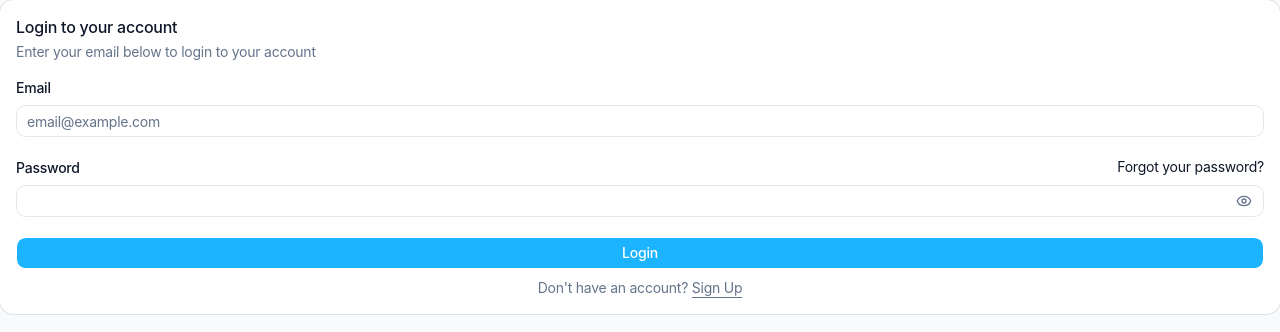
Scenario: LoginForm › disables the submit button while the request is in flight
The image size is (1280, 332).
In the field labelled "Email": (640,121) [16, 105, 1264, 137], type "user@email.com"
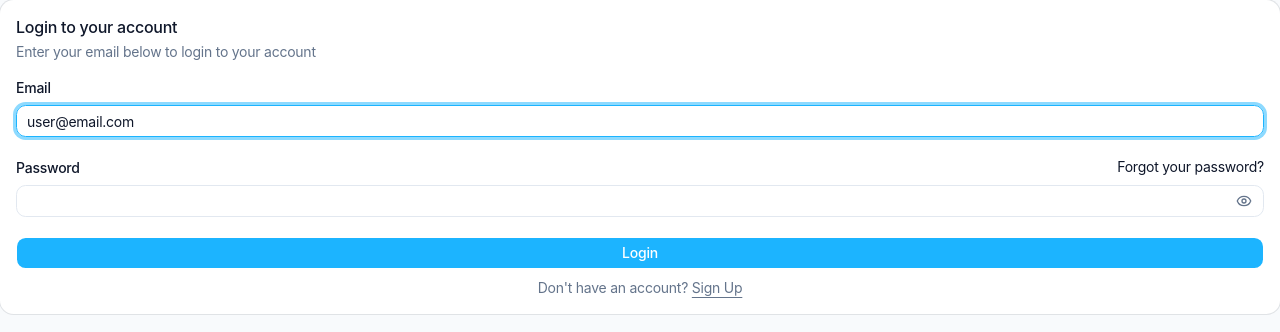
In the password field labelled "Password": (640,201) [16, 185, 1264, 217], type "Password@123"
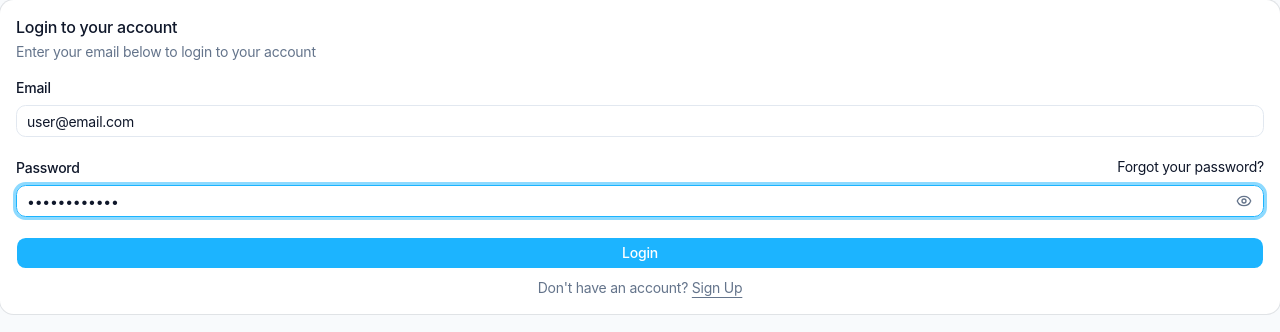
Click the button "Login": (640,253) [16, 237, 1264, 269]
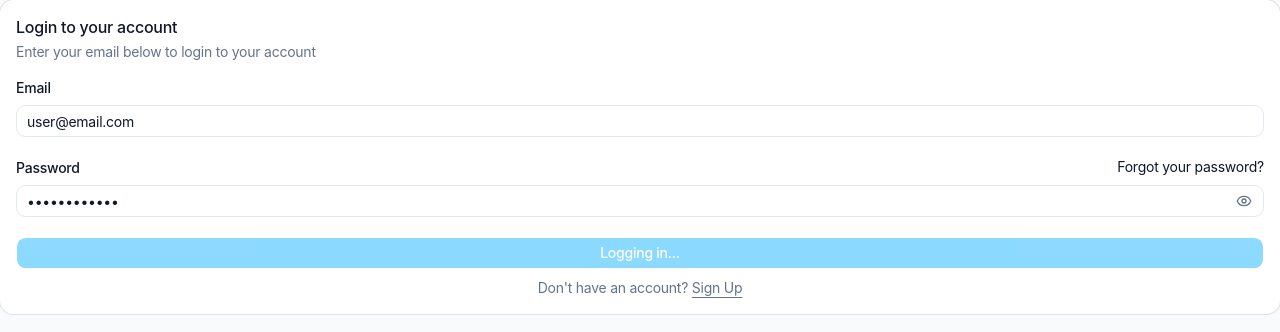
Now the button "Logging in..." is disabled, box [16, 237, 1264, 269]
